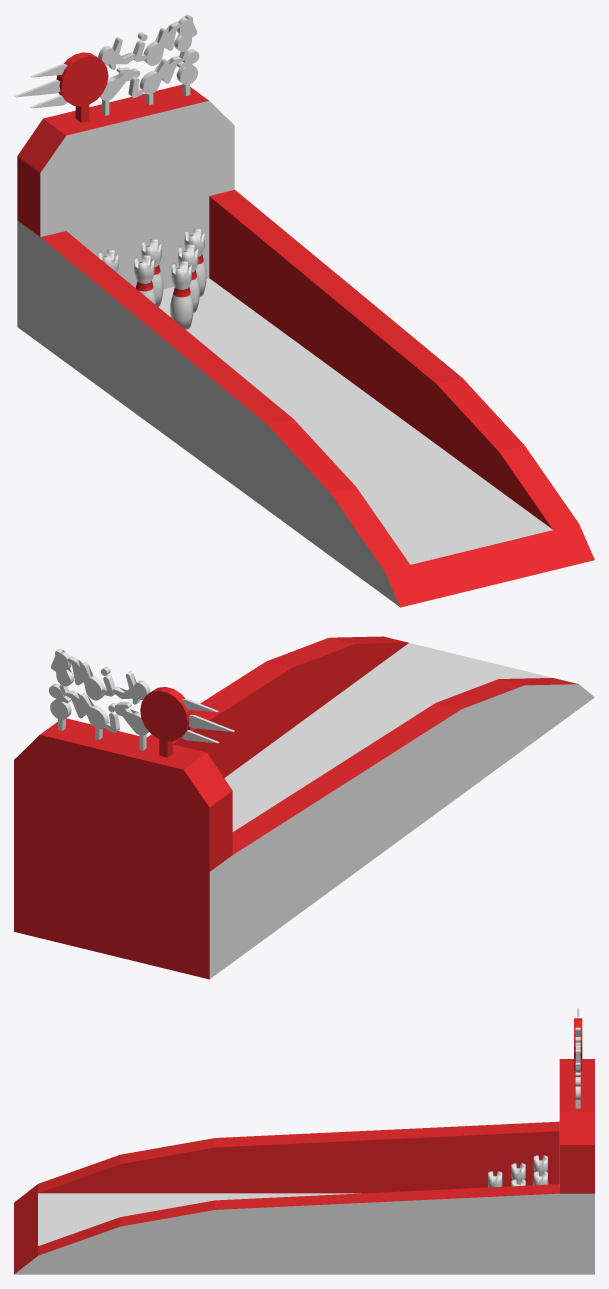
The model's file is BowlingGame.fbx.
3 views of the same model, one above another, from view 1: azimuth 30°, elevation 25°; view 2: azimuth 150°, elevation 25°; view 3: azimuth 270°, elevation 25° (orthographic). The views are drawn at different scales.
Parts seen in each view (by area): view 1: Cube.058; view 2: Cube.058; view 3: Cube.058.
Part boxes in pixels (bbox=[...]): Cube.058: bbox=[14, 14, 594, 607]; Cube.058: bbox=[14, 636, 594, 979]; Cube.058: bbox=[14, 1008, 594, 1274].
Size of the model in its own units: 278 by 357 by 885.
